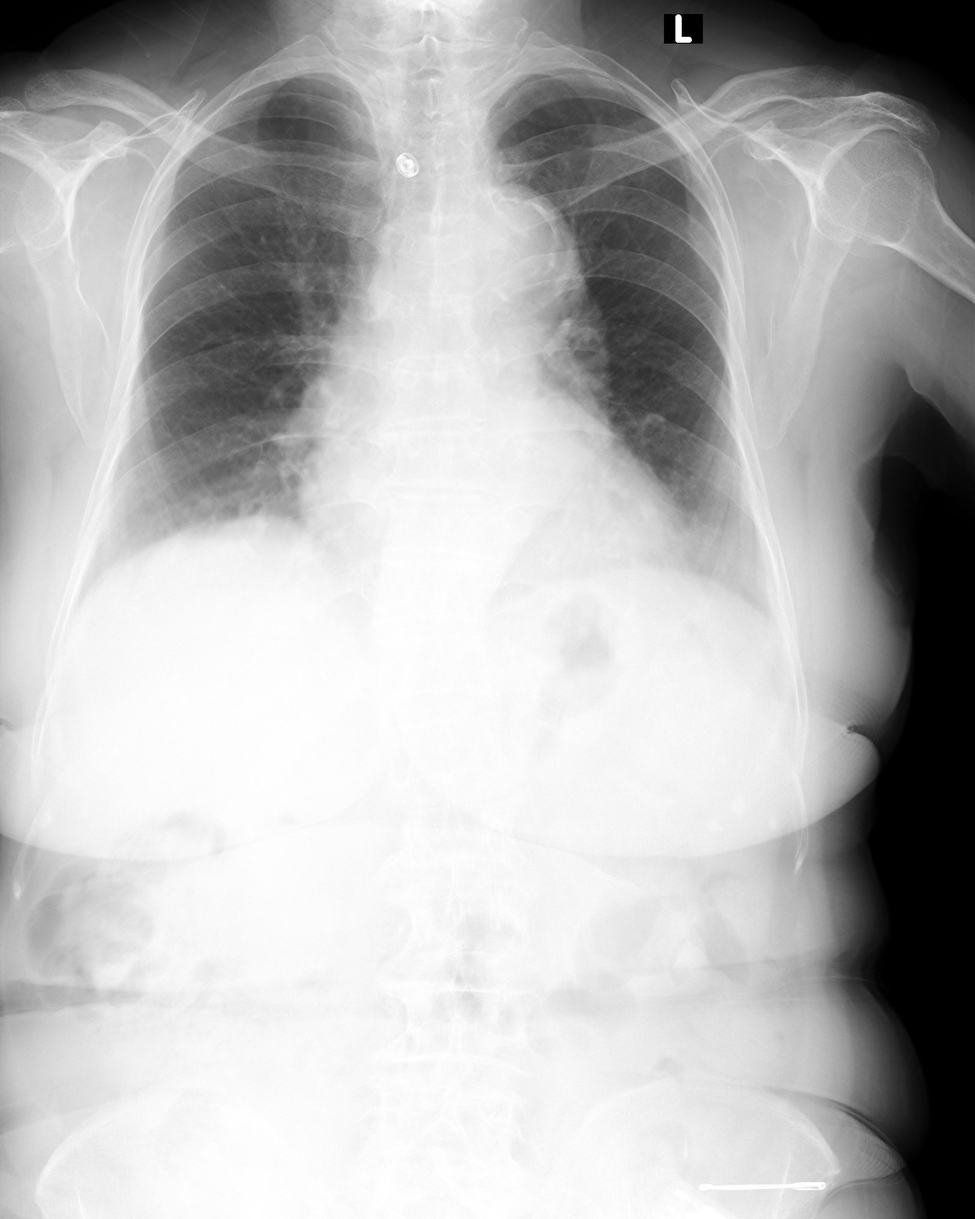Aortic enlargement: (440, 184, 586, 374)
Cardiomegaly: (299, 453, 683, 567)
